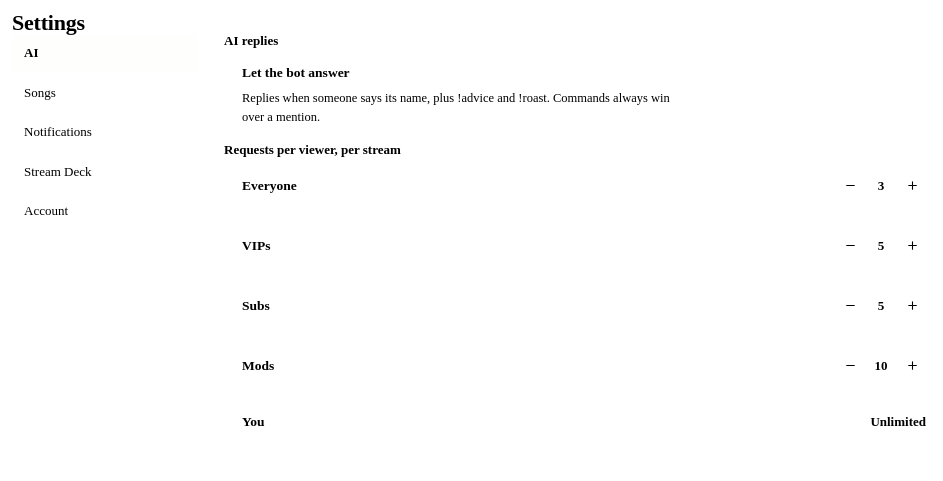
Test: Settings, the AI pane › places a rejected save inline rather than losing it
Click the button named "More for Mods". click: (912, 366)
box: [898,352,926,380]
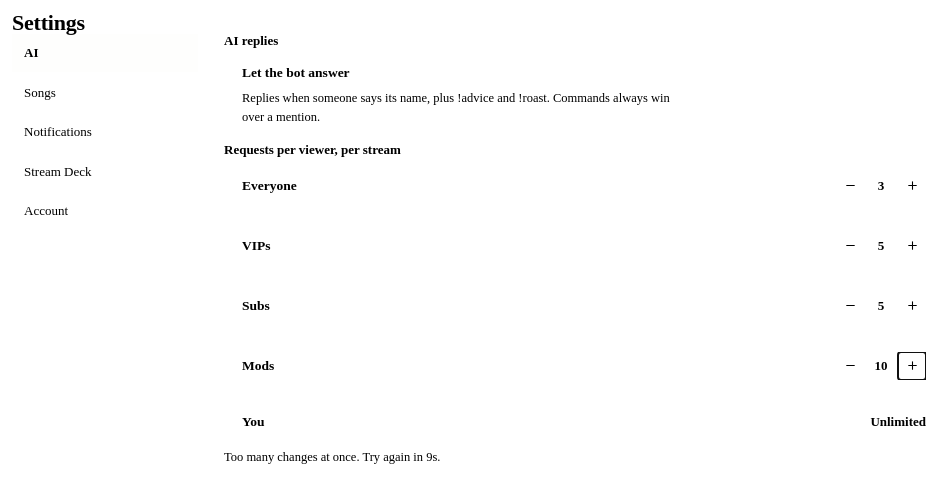
Expected: the text "Too many changes at once. Try again in 9s." is shown, [224,450,440,464]
